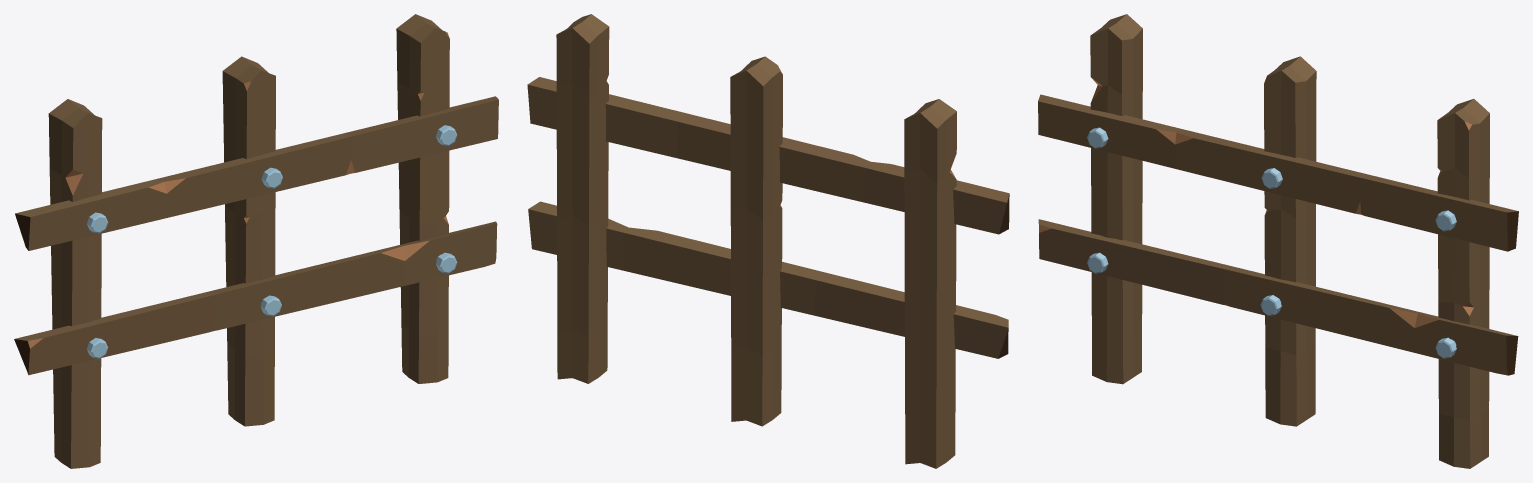
The model's file is fence.glb.
The picture shows the model from 3 angles, left to right: view 1: azimuth 30°, elevation 25°; view 2: azimuth 150°, elevation 25°; view 3: azimuth 330°, elevation 25°; orthographic projection.
Parts seen in each view (by area): view 1: Cube.001, Cube.002, Cube, Cube.004, Cube.003; view 2: Cube.004, Cube.003, Cube, Cube.001, Cube.002; view 3: Cube.001, Cube.002, Cube, Cube.004, Cube.003.
Boxes of the visible parts, x1,y1,x2,y2 form: Cube.001: (15, 96, 498, 250); Cube.002: (14, 221, 497, 375); Cube: (48, 99, 102, 468); Cube.004: (222, 56, 275, 426); Cube.003: (396, 14, 449, 383); Cube.004: (730, 56, 782, 426); Cube.003: (556, 14, 609, 383); Cube: (904, 99, 956, 468); Cube.001: (527, 77, 1009, 234); Cube.002: (528, 201, 1008, 358); Cube.001: (1038, 94, 1518, 251); Cube.002: (1038, 219, 1518, 375); Cube: (1090, 14, 1142, 384); Cube.004: (1264, 56, 1316, 426); Cube.003: (1437, 99, 1489, 468).
Size of the model in its own units: 29.32 by 20.66 by 3.47.
